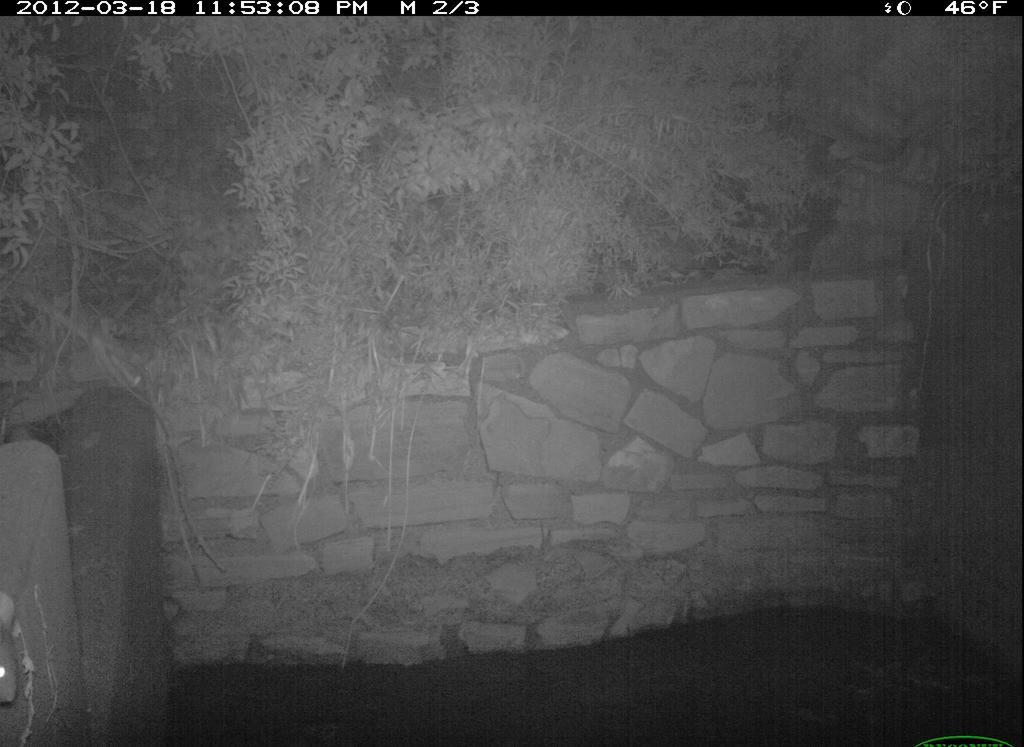rodent: (1, 592, 26, 723)
